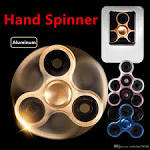fidget_spinner: (21, 37, 112, 130)
